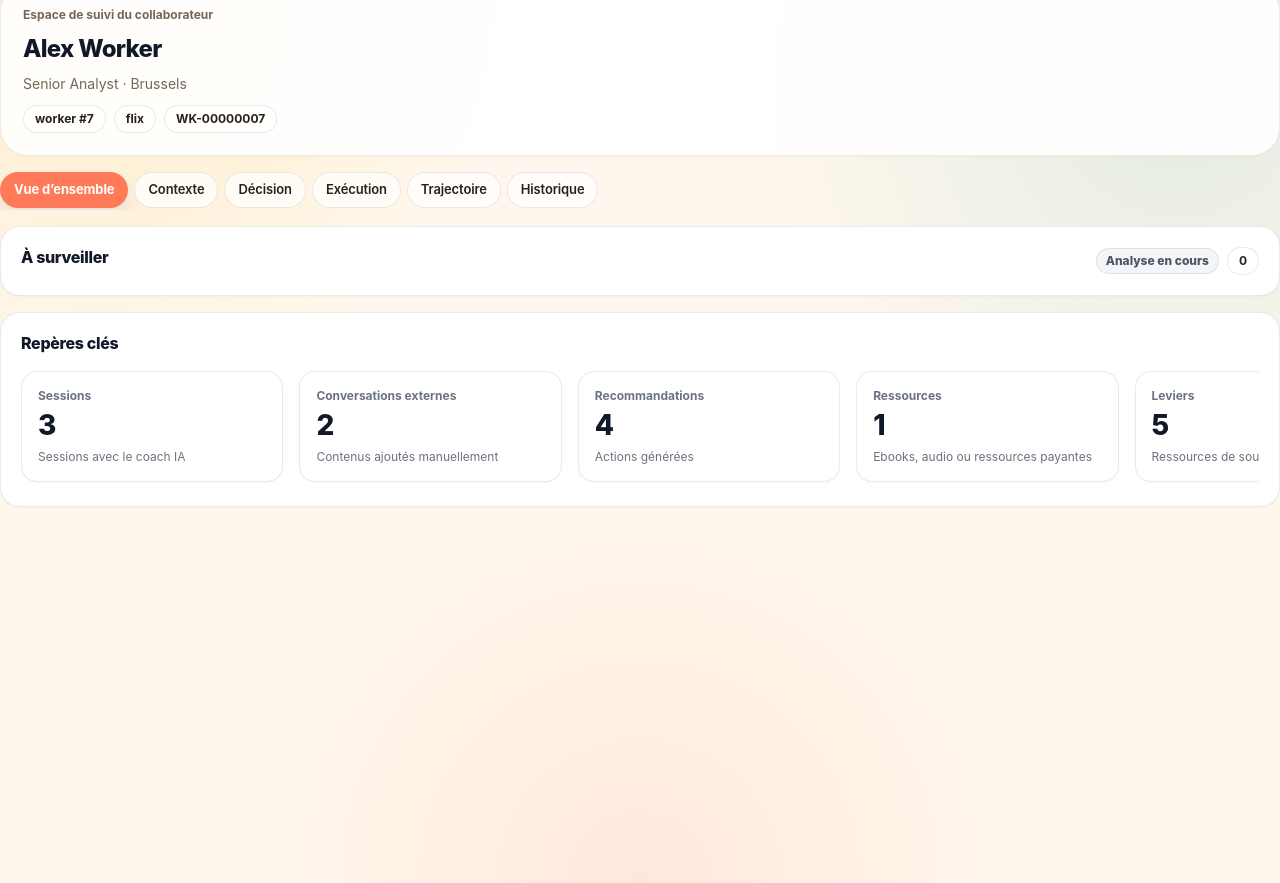
Test case: Organization Insights internationalization › localizes the completed Professional Mandate state in French
Click the tab "Contexte".
click(176, 190)  # box [134,172,218,208]
(page scrolled)
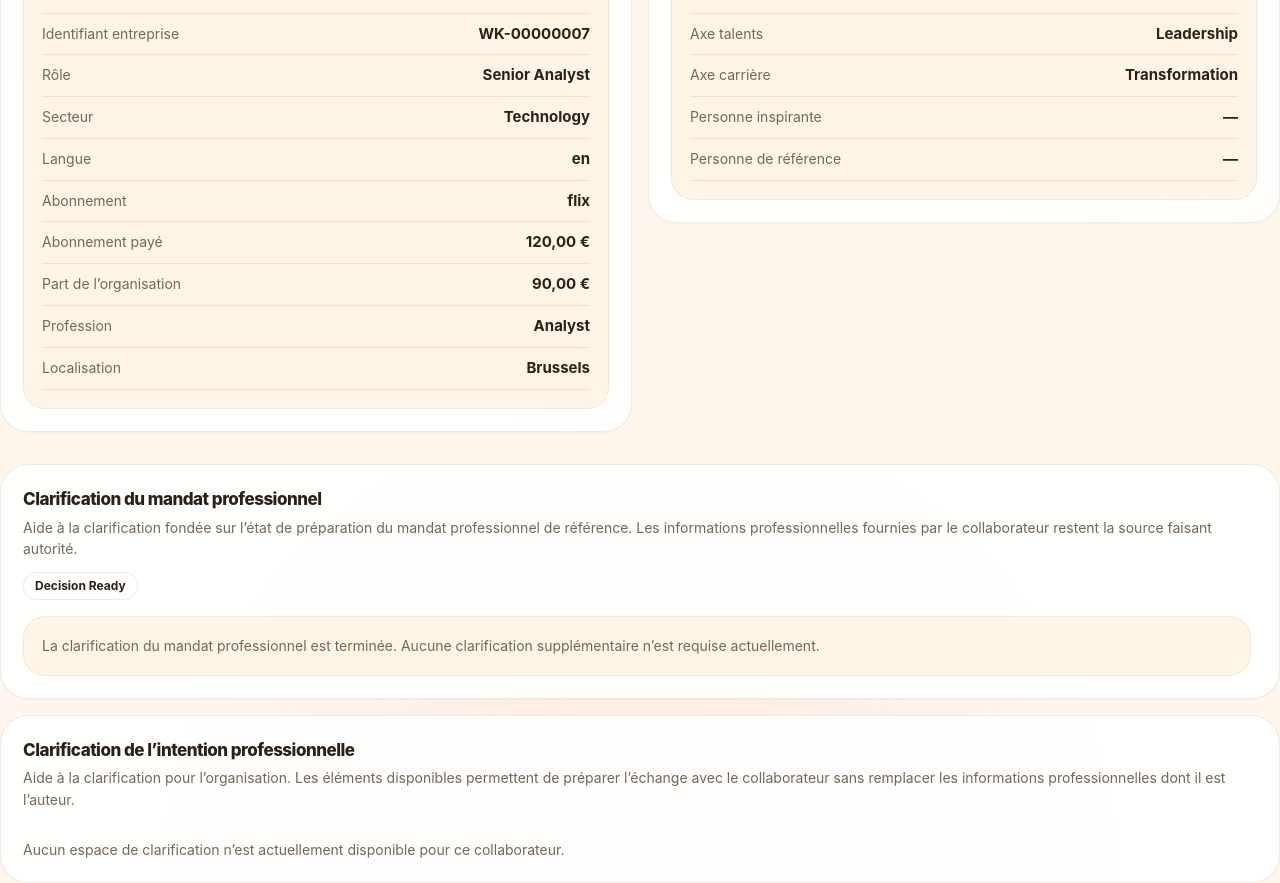
Expected: the text "La clarification du mandat professionnel est terminée. Aucune clarification supplémentaire n’est requise actuellement." is shown, [42,637,820,654]
